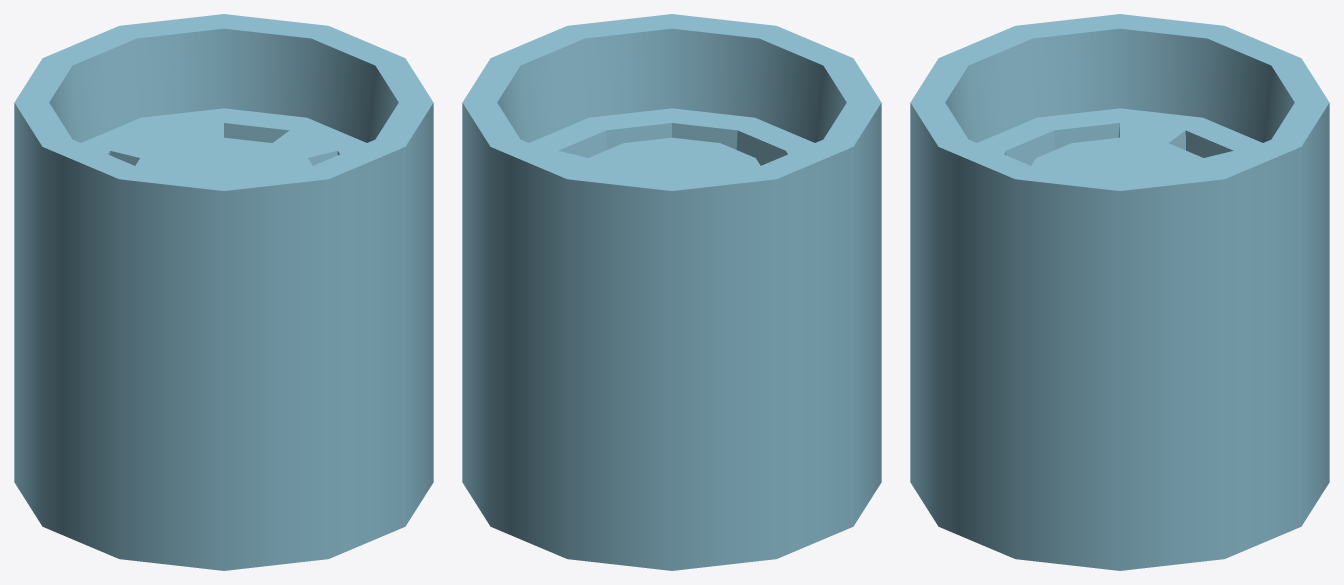
File: wireSocketHappy.FBX
3 views of the same model, side by side, from view 1: azimuth 30°, elevation 25°; view 2: azimuth 150°, elevation 25°; view 3: azimuth 270°, elevation 25° (orthographic).
Parts seen in each view (by area): view 1: wireSocketOuter, wireSocketInner; view 2: wireSocketOuter, wireSocketInner; view 3: wireSocketOuter, wireSocketInner.
Part boxes in pixels (x1,y1,x2,y2): wireSocketOuter: (14,14,433,570); wireSocketInner: (81,108,366,176); wireSocketOuter: (462,14,881,570); wireSocketInner: (529,108,814,176); wireSocketOuter: (910,14,1329,570); wireSocketInner: (977,108,1262,176).
Size of the model in its own units: 0.025 by 0.025 by 0.025.
